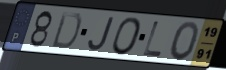8: (29, 10, 53, 48)
D: (49, 10, 83, 51)
J: (86, 16, 116, 53)
L: (141, 19, 165, 58)
O: (168, 20, 201, 63), (111, 16, 143, 57)
